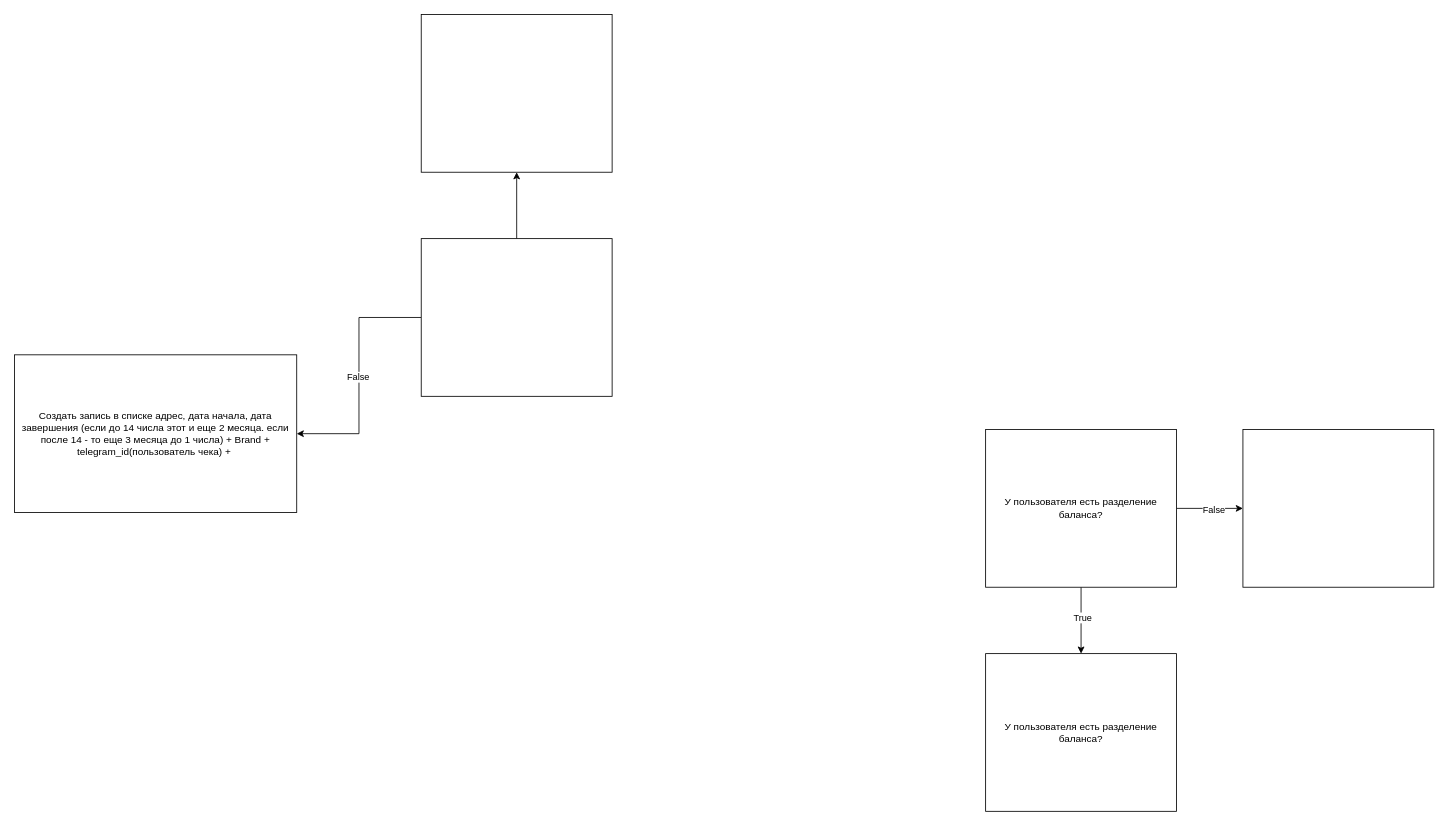
The diagram is 1448 pixels wide and 826 high, and some of its shapes have lost their labels. Here are the shapes that lost their labels. From the top down, the centre of each, then its label:
At pixel 516 317: "Адрес есть в списке".
At pixel 1338 508: "Начислить баллы".
